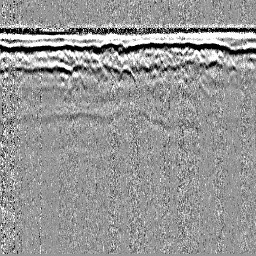cavity: (117, 63, 136, 82)
